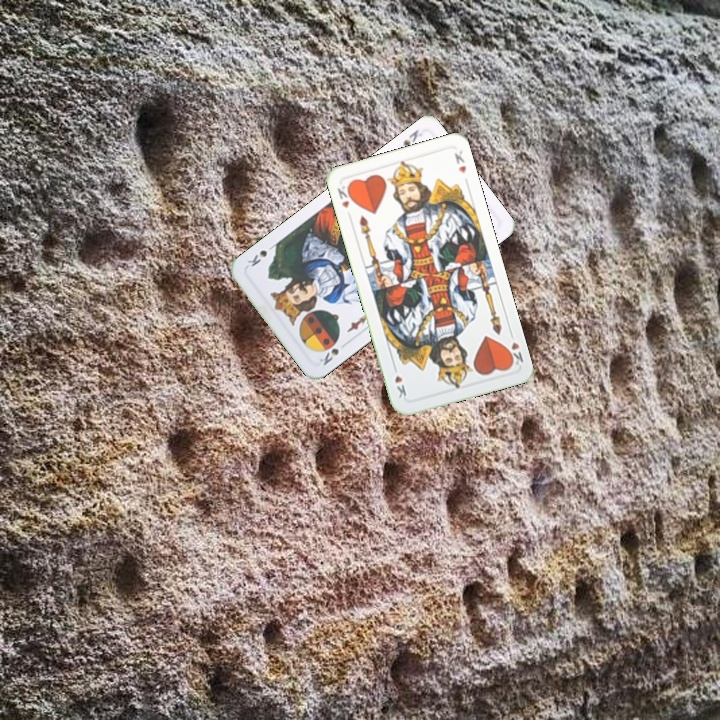HK: (502, 328, 526, 368), (333, 181, 356, 211)
SK: (315, 338, 350, 368), (398, 125, 426, 149)
